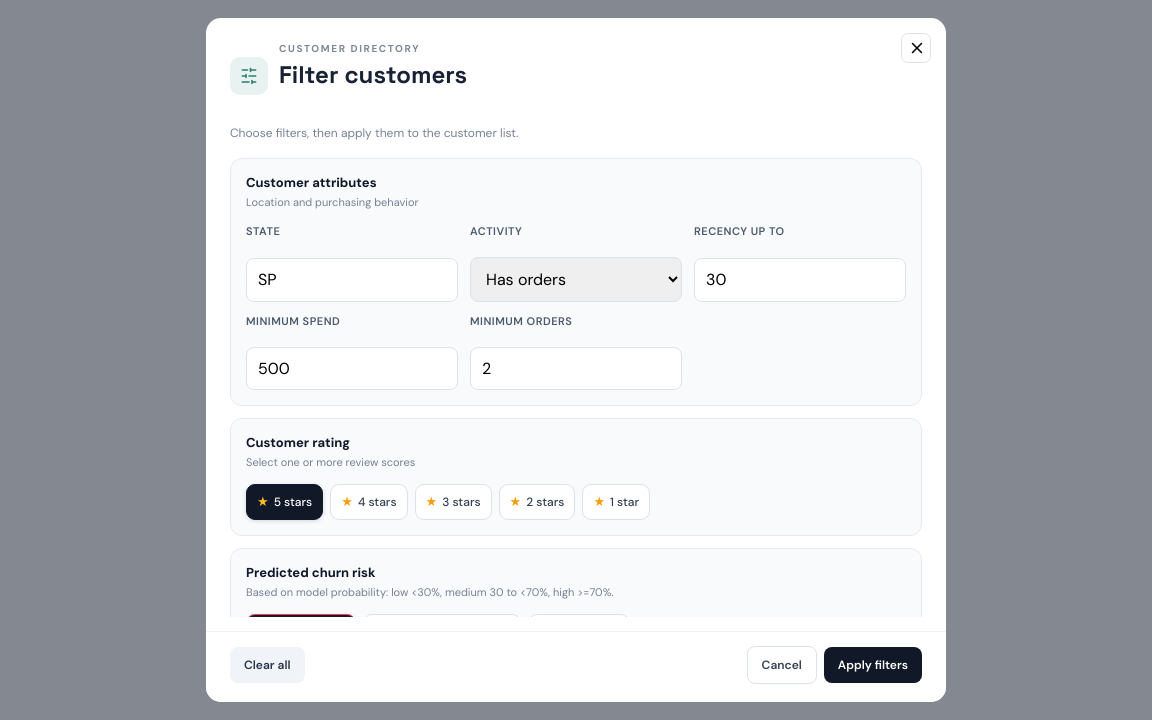
FilterModal Component › clears filters when clicking Clear all button
What coordinates should you click on to do the following:
click the button "Clear all"
I would click on:
 (267, 665)
Its box is [230,647,304,683].
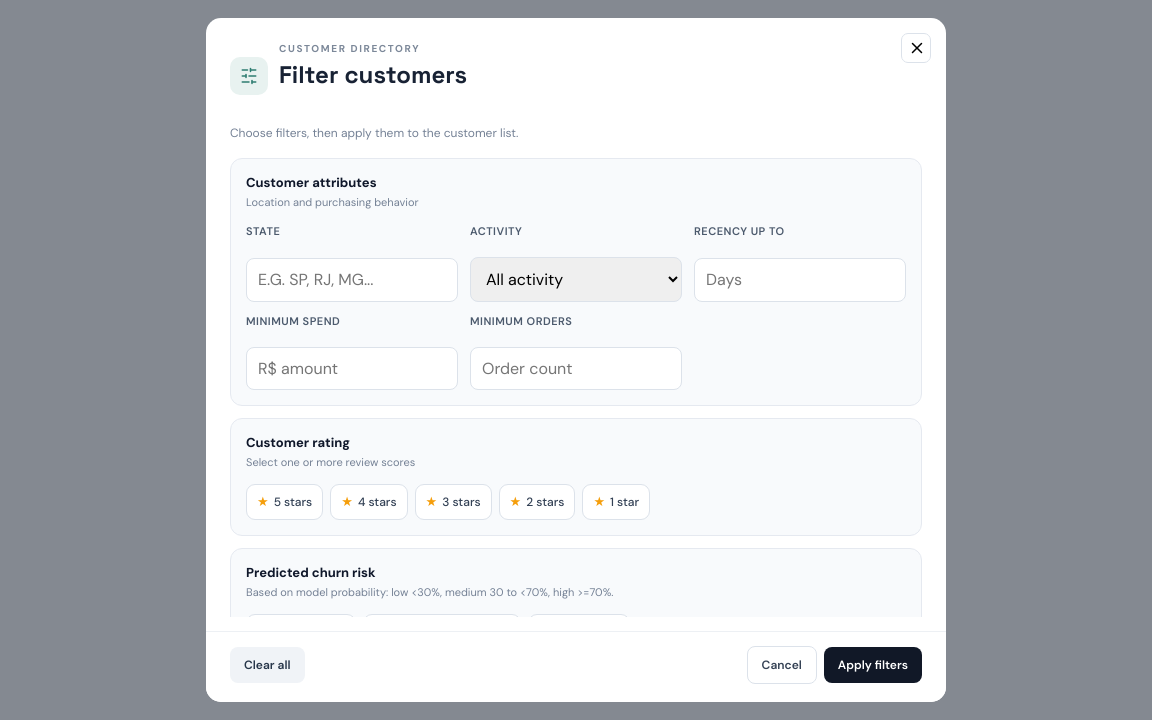
Expected: the number field with placeholder "R$ amount" is empty, [246,347,458,390]
